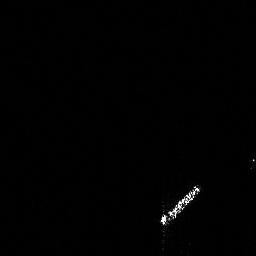ship: (156, 179, 204, 228)
